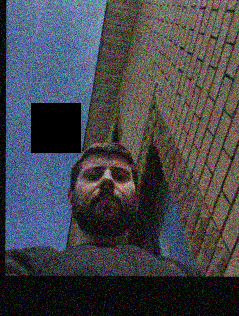without_mask: (76, 161, 136, 235)
